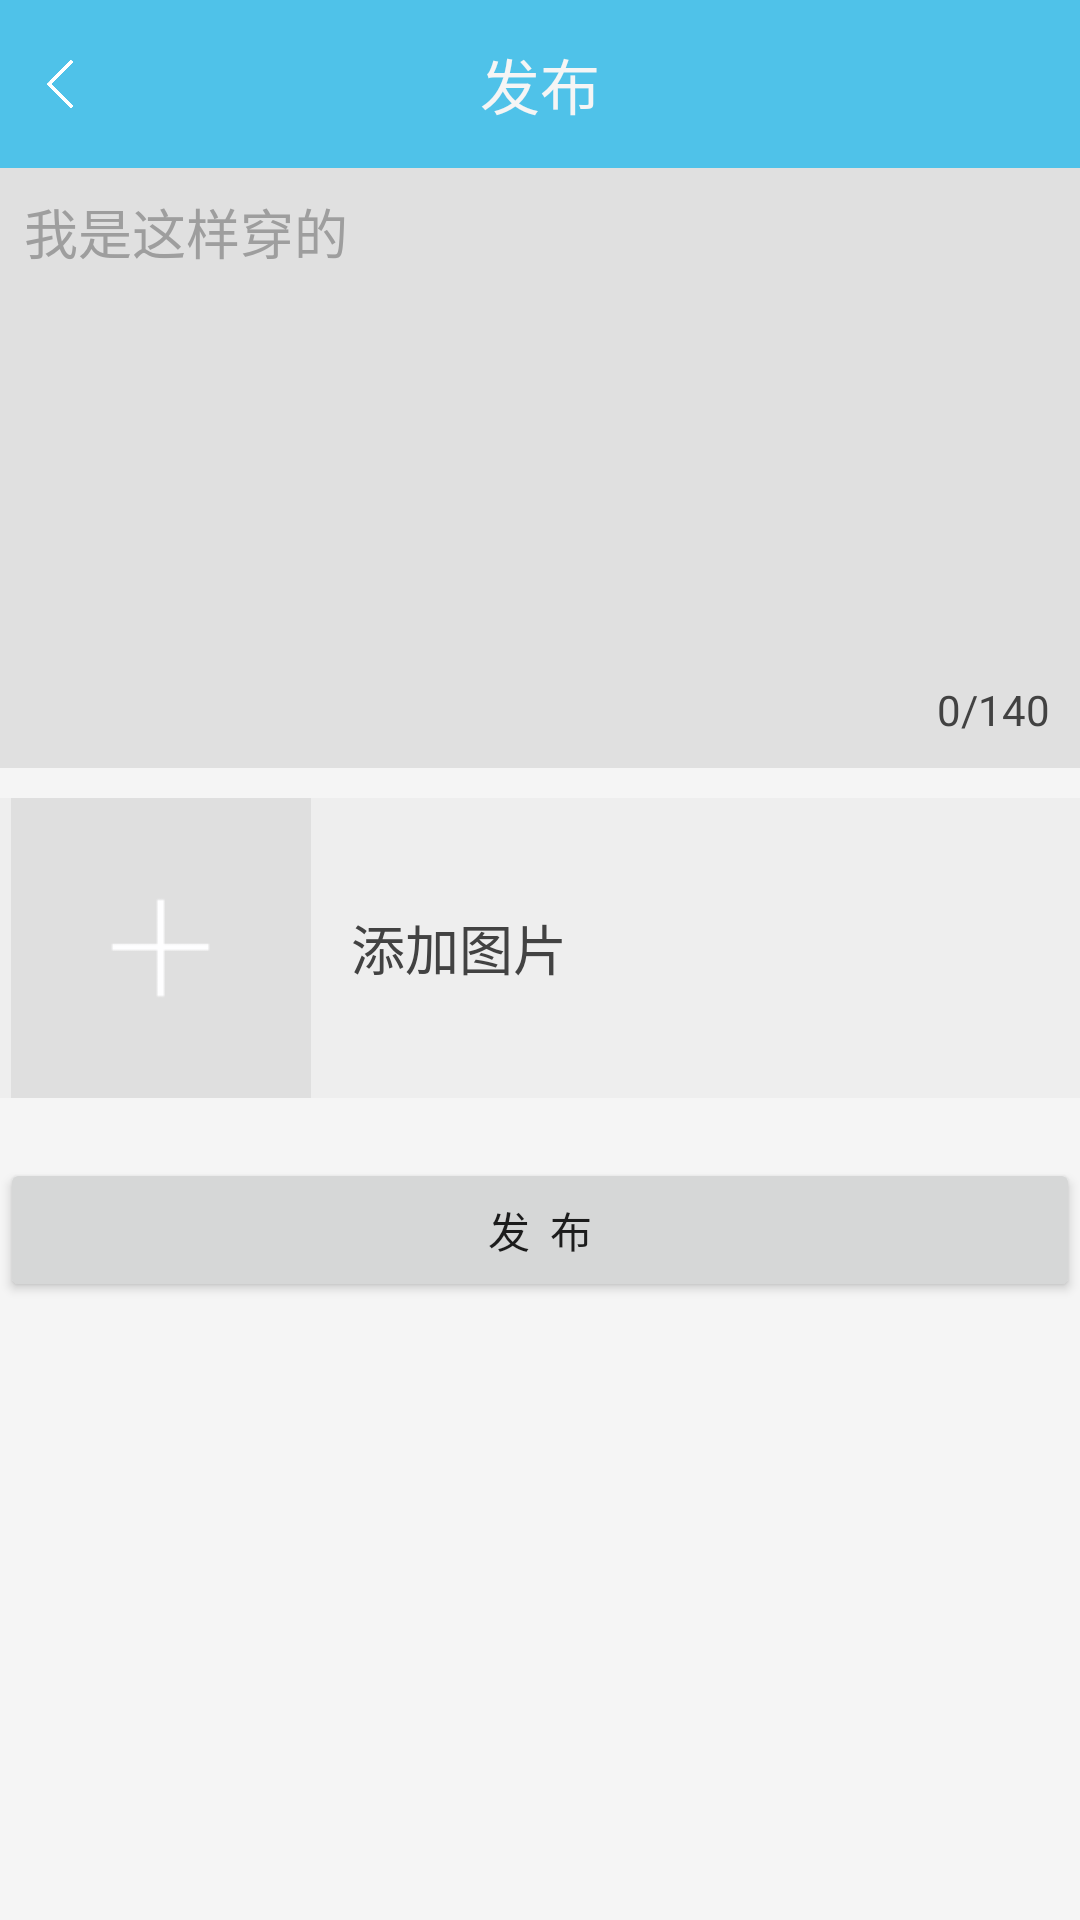

Locate icon controls on the screen. Image size 1080px x 1920px, boxes as (x1, y1, x2, y2).
back: (47, 60, 73, 108)
